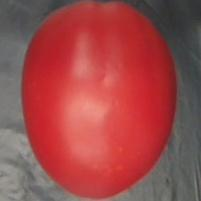unripe: (20, 0, 181, 201)
